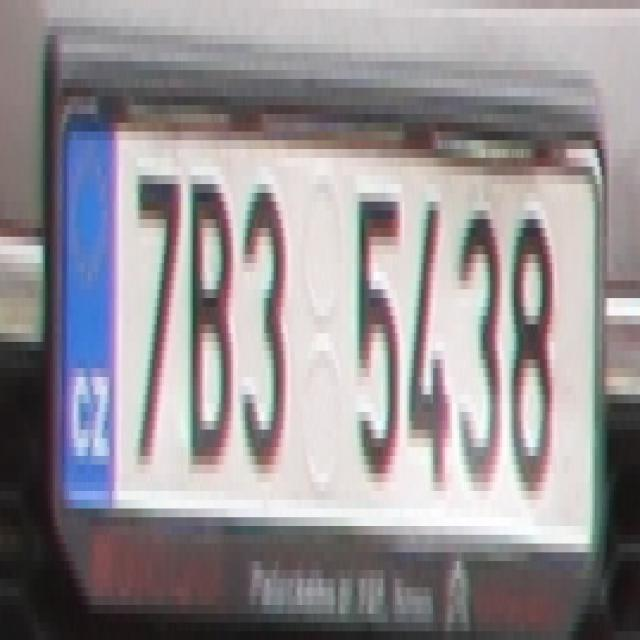3: (245, 184, 290, 474), (462, 210, 506, 500)
4: (404, 202, 454, 517)
5: (354, 184, 400, 474)
7: (131, 166, 181, 464)
8: (509, 202, 557, 508)
B: (190, 166, 231, 464)
